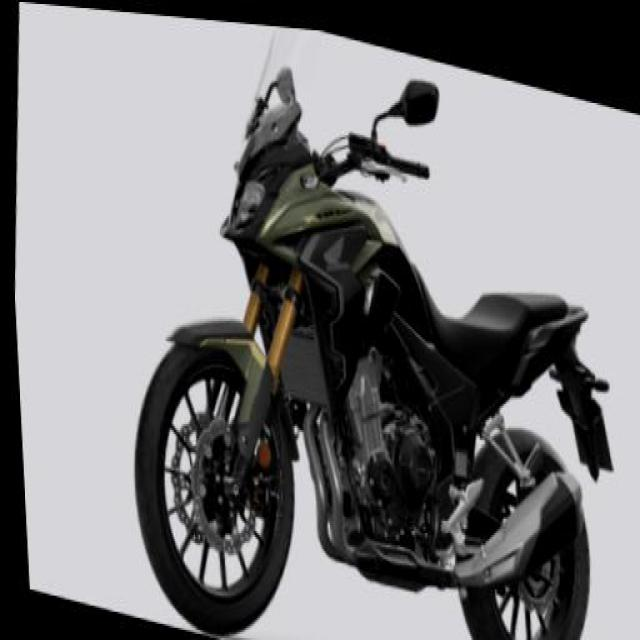CB500X: (101, 6, 624, 638)
